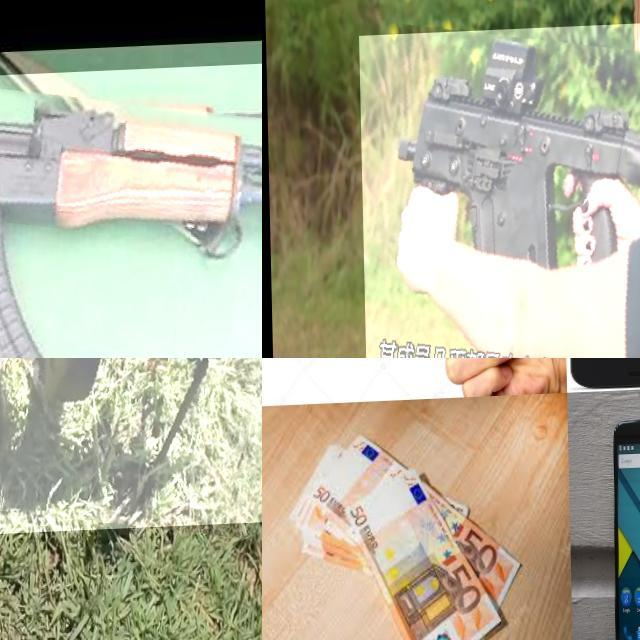gun-knife-thesis - v11 Yolov5 augmented: (358, 25, 640, 358), (0, 66, 262, 358), (0, 358, 262, 542)
